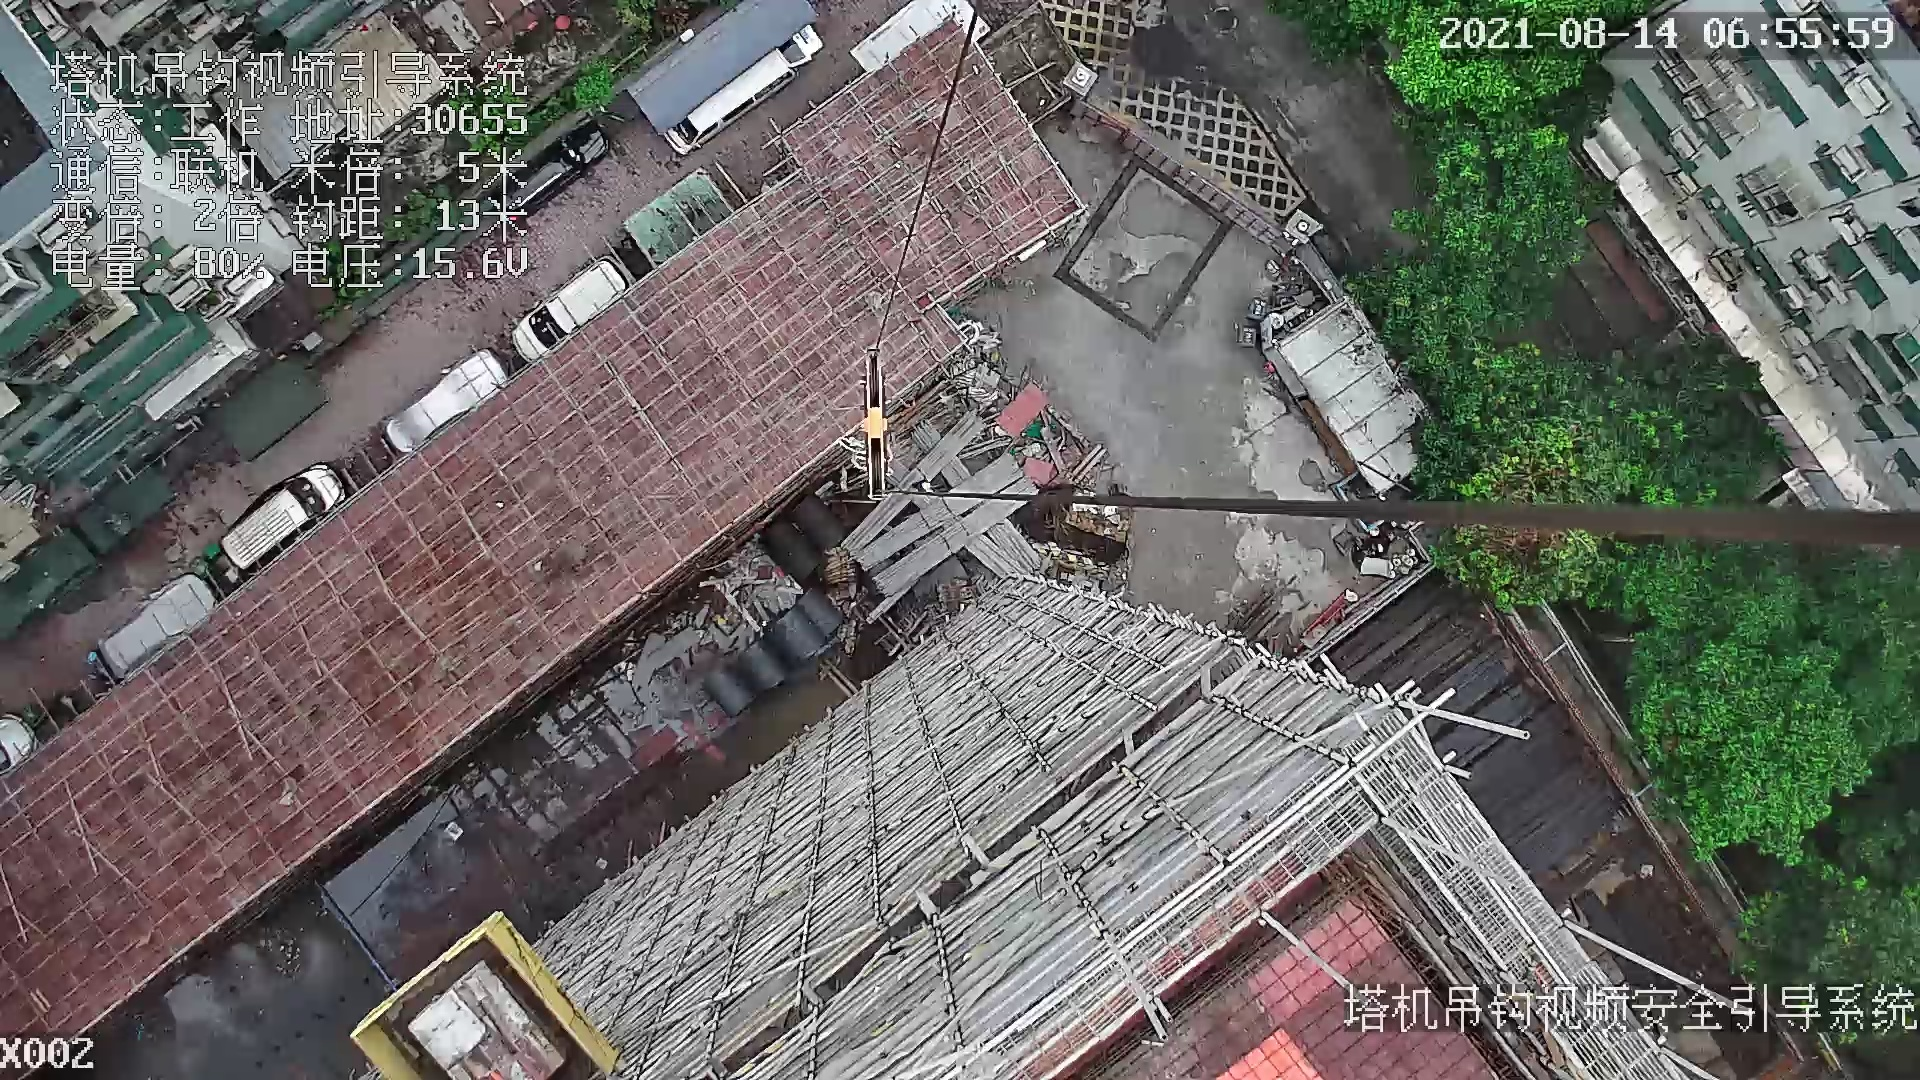board: (400, 967, 564, 1080)
hook: (855, 342, 897, 497)
rebar: (843, 410, 985, 555), (853, 455, 1022, 570), (873, 479, 1038, 596), (986, 520, 1039, 568), (964, 535, 1015, 578)
